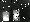person: (14, 11, 21, 22), (4, 9, 10, 21)
